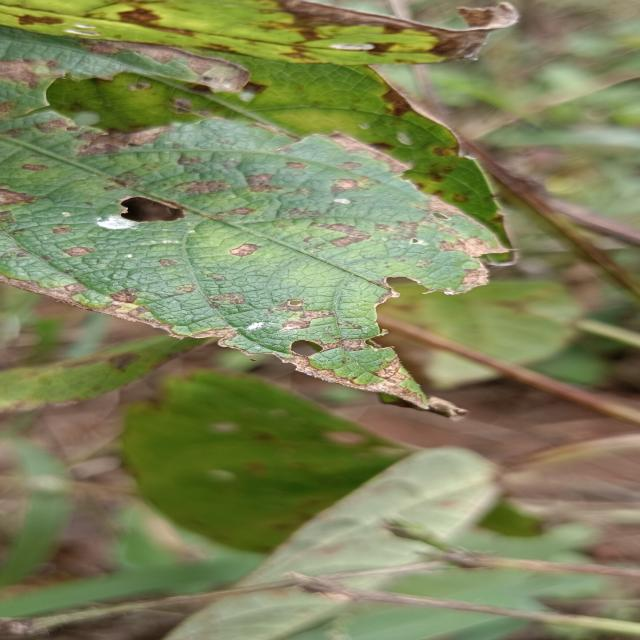Black gram_leaf spot: (0, 0, 562, 424), (0, 0, 520, 74)
